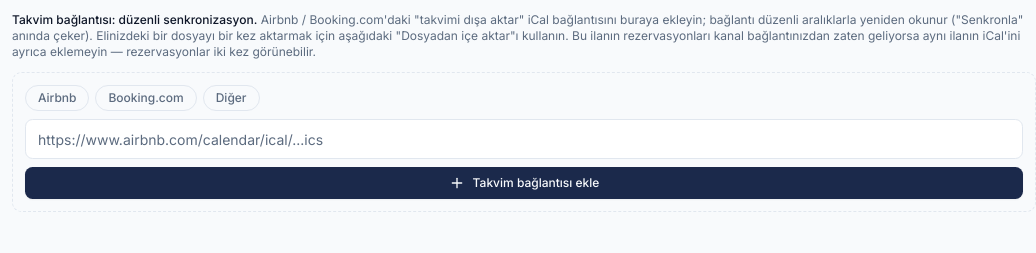
it: CalendarSources — kaynak chip'leri › kaynak seçilmeden ekleme denenirse fetch olmaz, yönlendirici hata görünür
Type "https://www.airbnb.com/calendar/ical/539.ics" into the field named "Takvim (.ics) bağlantısı" at (524,139), box [25, 119, 1023, 159]
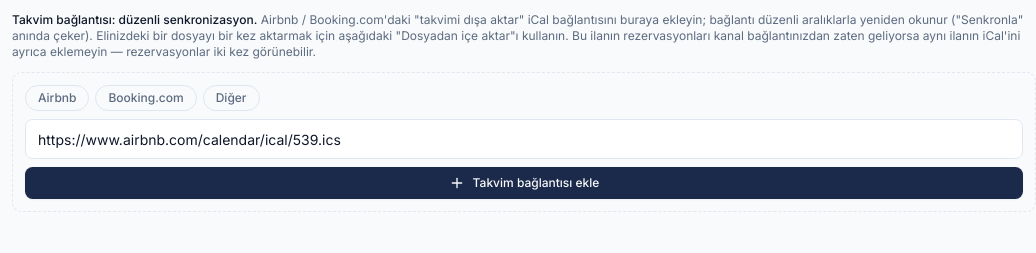
Click the button "Takvim bağlantısı ekle" at (524,183), box [25, 167, 1023, 199]
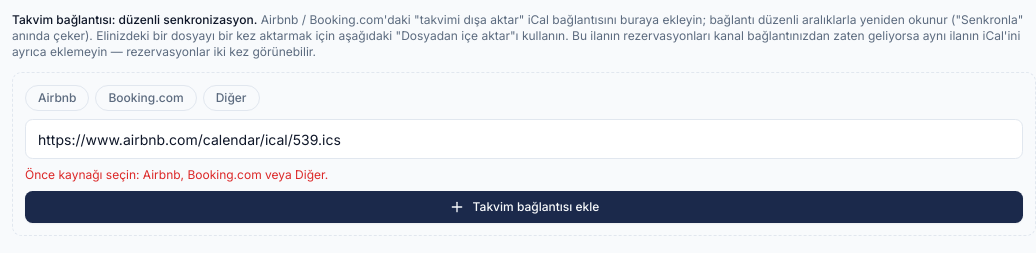
Now the text "Önce kaynağı seçin: Airbnb, Booking.com veya Diğer." is shown, box [25, 167, 328, 182]
